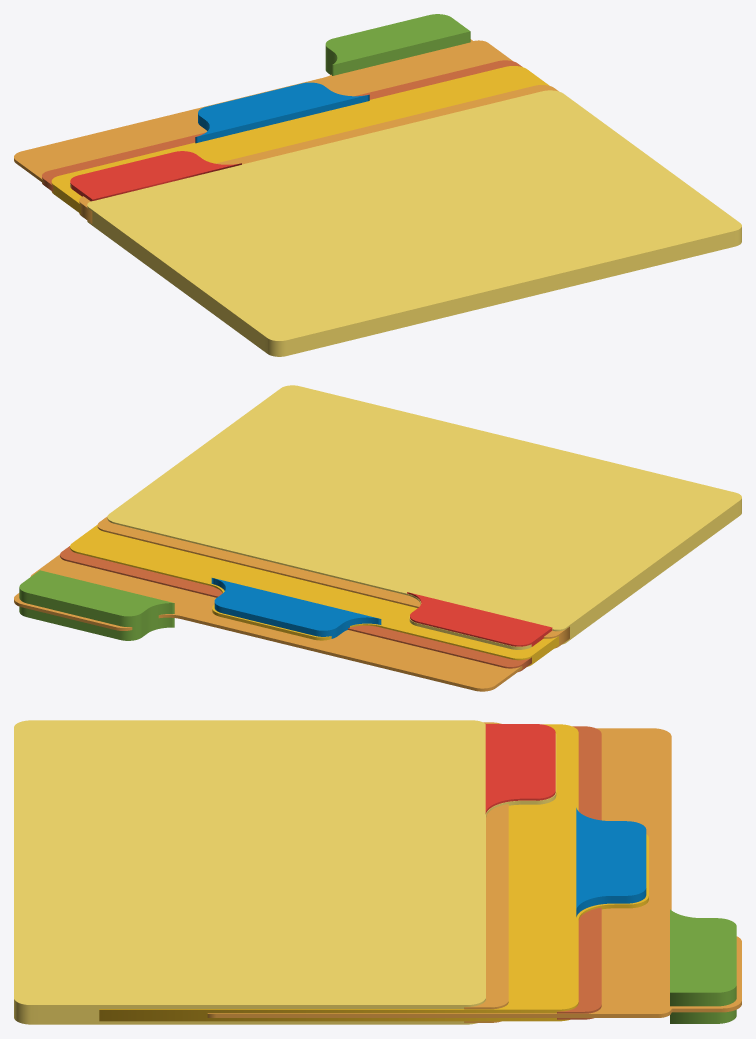
Rendered from emoji_u1f5c2.glb.
3 renders of one model, top to bottom at view 1: azimuth 30°, elevation 25°; view 2: azimuth 150°, elevation 25°; view 3: azimuth 270°, elevation 25°, orthographic. The views are drawn at different scales.
Parts seen in each view (by area): view 1: emoji_u1f5c2; view 2: emoji_u1f5c2; view 3: emoji_u1f5c2.
Boxes of the visible parts, x1,y1,x2,y2 form: emoji_u1f5c2: (14,14,741,356); emoji_u1f5c2: (14,385,741,691); emoji_u1f5c2: (14,720,741,1024).
Size of the model in its own units: 0.0315 by 0.0016 by 0.0339.
